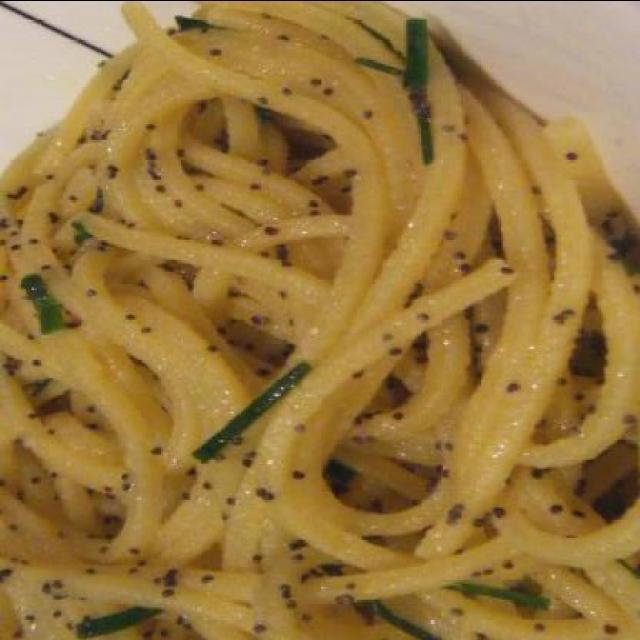Oil pasta: (16, 5, 618, 633)
